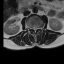CCS_normal: (34, 25, 36, 34)
LFS_stenosis: (38, 25, 40, 30)
LLS_stenosis: (36, 25, 38, 31)
RFS_stenosis: (30, 25, 32, 30)
RLS_normal: (32, 25, 34, 31)
